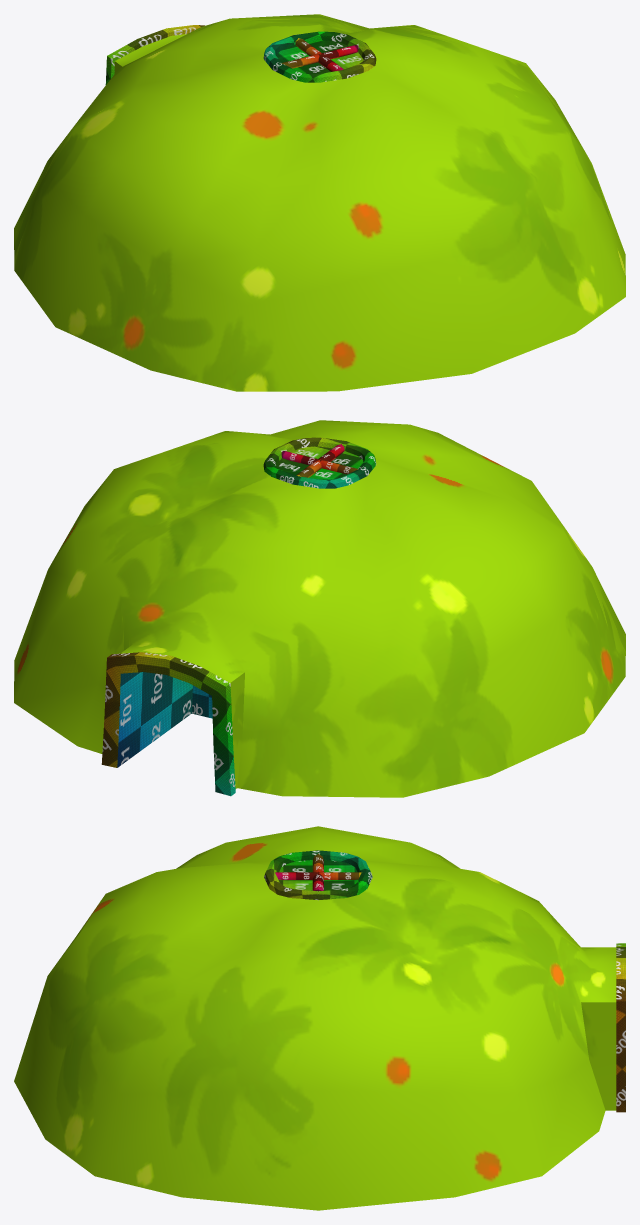
File: SnekHouse.FBX
3 views of the same model, one above another, from view 1: azimuth 30°, elevation 25°; view 2: azimuth 150°, elevation 25°; view 3: azimuth 270°, elevation 25° (orthographic).
Parts seen in each view (by area): view 1: SnekHouse; view 2: SnekHouse; view 3: SnekHouse.
Part boxes in pixels (<box>): SnekHouse: <box>14,14,625,391</box>; SnekHouse: <box>14,420,625,797</box>; SnekHouse: <box>14,826,625,1210</box>.
Bounding box in the file's own units: 72.33 × 27.43 × 72.32.
